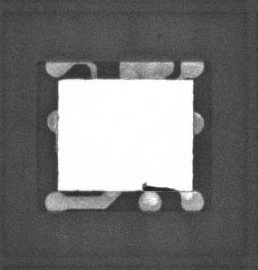DIE_BROKEN: (140, 181, 180, 192)
